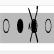correct: (16, 15, 24, 39)
not correct: (27, 6, 40, 44)
